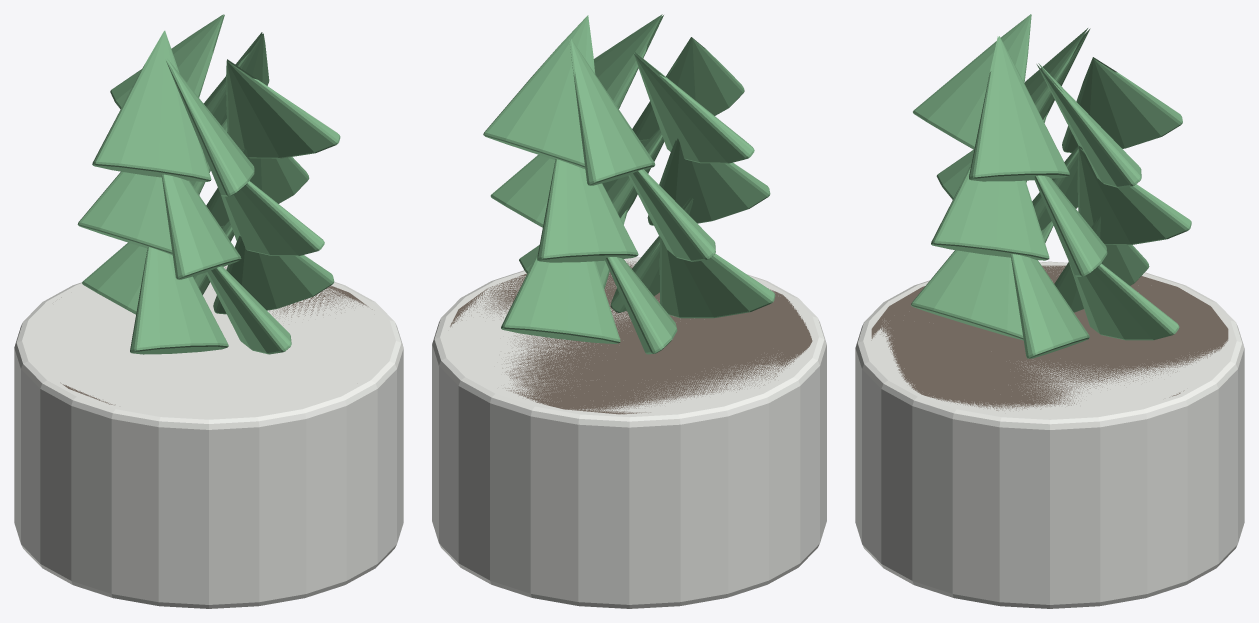
File: modern_office_asset_library_board_23_iter_1.glb
3 renders of one model, left to right at view 1: azimuth 30°, elevation 25°; view 2: azimuth 150°, elevation 25°; view 3: azimuth 270°, elevation 25°, orthographic.
Visible parts, largest first — view 1: Cylinder; view 2: Cylinder; view 3: Cylinder.
Boxes of the visible parts, left/top/right/bottom form: Cylinder: left=14, top=14, right=403, bottom=608; Cylinder: left=432, top=14, right=826, bottom=608; Cylinder: left=855, top=14, right=1244, bottom=608.
Bounding box in the file's own units: 0.7098 × 0.9875 × 0.7098.
